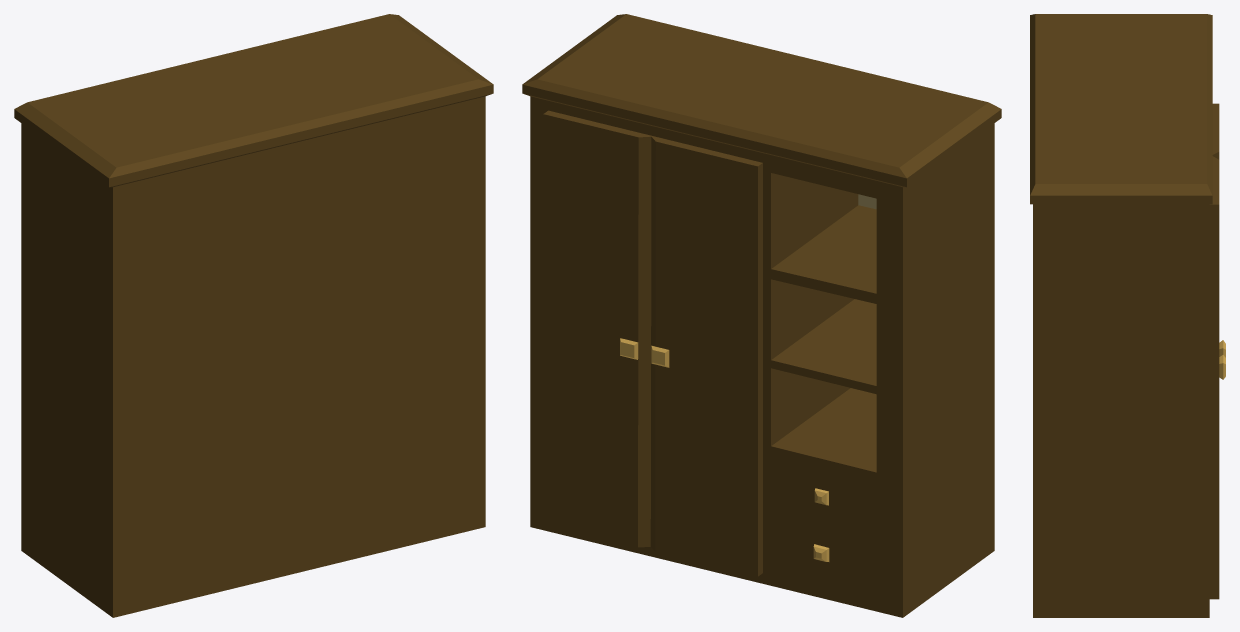
The model's file is Kleiderschrank Schlafzimmer.fbx.
3 views of the same model, side by side, from view 1: azimuth 30°, elevation 25°; view 2: azimuth 150°, elevation 25°; view 3: azimuth 270°, elevation 25° (orthographic). The views are drawn at different scales.
Visible parts, largest first — view 1: Cube; view 2: Cube; view 3: Cube.
Part boxes in pixels (x1,y1,x2,y2): Cube: [14, 14, 493, 617]; Cube: [522, 14, 1001, 617]; Cube: [1030, 14, 1225, 617].
Size of the model in its own units: 182 by 203 by 83.42.
